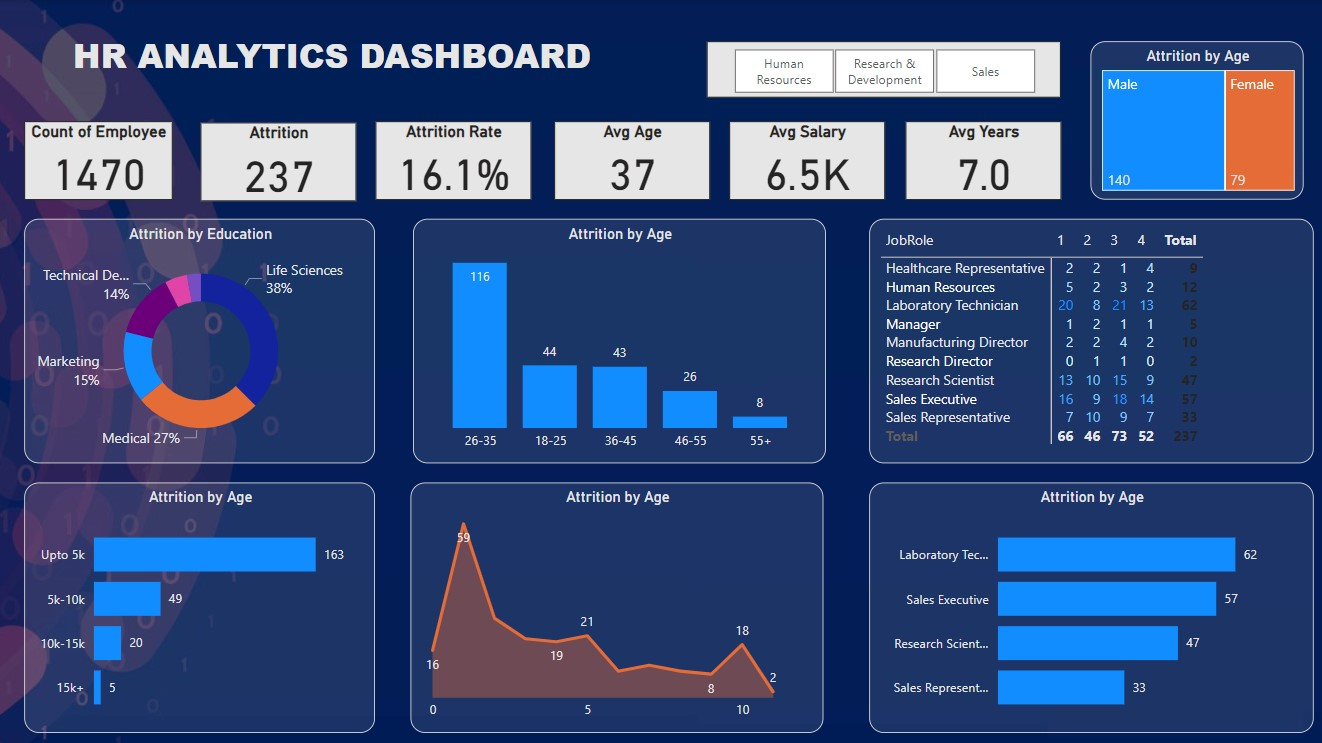

The dashboard page shown, as its layout file describes it:
{"tool":"powerbi","page":{"name":"Page 1","canvas":[1280,720],"ordinal":0},"visuals":[{"type":"card","title":"Overall Employees","fields":{"Values":["CountNonNull(HR_Analytics.EmpID)"]},"box":[25.7,117.1,142.9,75.7],"z":0},{"type":"card","title":"Attrition Rate","fields":{"Values":["HR_Analytics.AttritionRate"]},"box":[364.3,117.1,150,75.7],"z":1000},{"type":"card","title":"Attrition","fields":{"Values":["Sum(HR_Analytics.AttritionCount)"]},"box":[195.7,118.6,150,75.7],"z":2000},{"type":"card","title":"Avg Age","fields":{"Values":["Avg(HR_Analytics.Age)"]},"box":[537.1,117.1,150,75.7],"z":3000},{"type":"card","title":"Years At Company","fields":{"Values":["Avg(HR_Analytics.YearsAtCompany)"]},"box":[875.7,117.1,150,75.7],"z":4000},{"type":"card","title":"Avg Salary","fields":{"Values":["Avg(HR_Analytics.MonthlyIncome)"]},"box":[705.7,117.1,150,75.7],"z":5000},{"type":"donutChart","title":"Attrition by Education","fields":{"Category":["HR_Analytics.EducationField"],"Y":["Sum(HR_Analytics.AttritionCount)"]},"box":[25.7,211.4,338.6,235.7],"z":6000},{"type":"columnChart","title":"Attrition by Age","fields":{"Y":["Sum(HR_Analytics.AttritionCount)"],"Category":["HR_Analytics.AgeGroup"]},"box":[400,211.4,398.6,235.7],"z":7000},{"type":"pivotTable","fields":{"Rows":["HR_Analytics.JobRole"],"Columns":["HR_Analytics.JobSatisfaction"],"Values":["Sum(HR_Analytics.AttritionCount)"]},"box":[840,211.4,428.6,235.7],"z":8000},{"type":"barChart","title":"Attrition by Salary Slab","fields":{"Category":["HR_Analytics.SalarySlab"],"Y":["Sum(HR_Analytics.AttritionCount)"]},"box":[25.7,465.7,338.6,241.4],"z":9000},{"type":"barChart","title":"Attrition by Job Role","fields":{"Category":["HR_Analytics.JobRole"],"Y":["Sum(HR_Analytics.AttritionCount)"]},"box":[840,465.7,428.6,241.4],"z":10000},{"type":"areaChart","title":"Attrition by Years At Company","fields":{"Category":["HR_Analytics.YearsAtCompany"],"Y":["Sum(HR_Analytics.AttritionCount)"]},"box":[398.6,465.7,398.6,241.4],"z":11000},{"type":"treemap","title":"Attrition by Gender","fields":{"Group":["HR_Analytics.Gender"],"Values":["Sum(HR_Analytics.AttritionCount)"]},"box":[1054.3,40,205.7,152.9],"z":12000},{"type":"slicer","fields":{"Values":["HR_Analytics.Department"]},"box":[684.3,40,341.4,54.3],"z":13000},{"type":"textbox","box":[45.7,25.7,552.9,68.6],"z":14000}]}

Visuals, with their boxes in screenshot pixels (x1, y1, x2, y2), scaled from the page's 1280x720 canvas onto the 1322x743 screenshot:
"Overall Employees" card: region(27, 121, 174, 199)
"Attrition Rate" card: region(376, 121, 531, 199)
"Attrition" card: region(202, 122, 357, 201)
"Avg Age" card: region(555, 121, 710, 199)
"Years At Company" card: region(904, 121, 1059, 199)
"Avg Salary" card: region(729, 121, 884, 199)
"Attrition by Education" donutChart: region(27, 218, 376, 461)
"Attrition by Age" columnChart: region(413, 218, 825, 461)
pivotTable - HR_Analytics.JobRole x HR_Analytics.JobSatisfaction: region(868, 218, 1310, 461)
"Attrition by Salary Slab" barChart: region(27, 481, 376, 730)
"Attrition by Job Role" barChart: region(868, 481, 1310, 730)
"Attrition by Years At Company" areaChart: region(412, 481, 823, 730)
"Attrition by Gender" treemap: region(1089, 41, 1301, 199)
slicer - HR_Analytics.Department: region(707, 41, 1059, 97)
textbox: region(47, 27, 618, 97)
